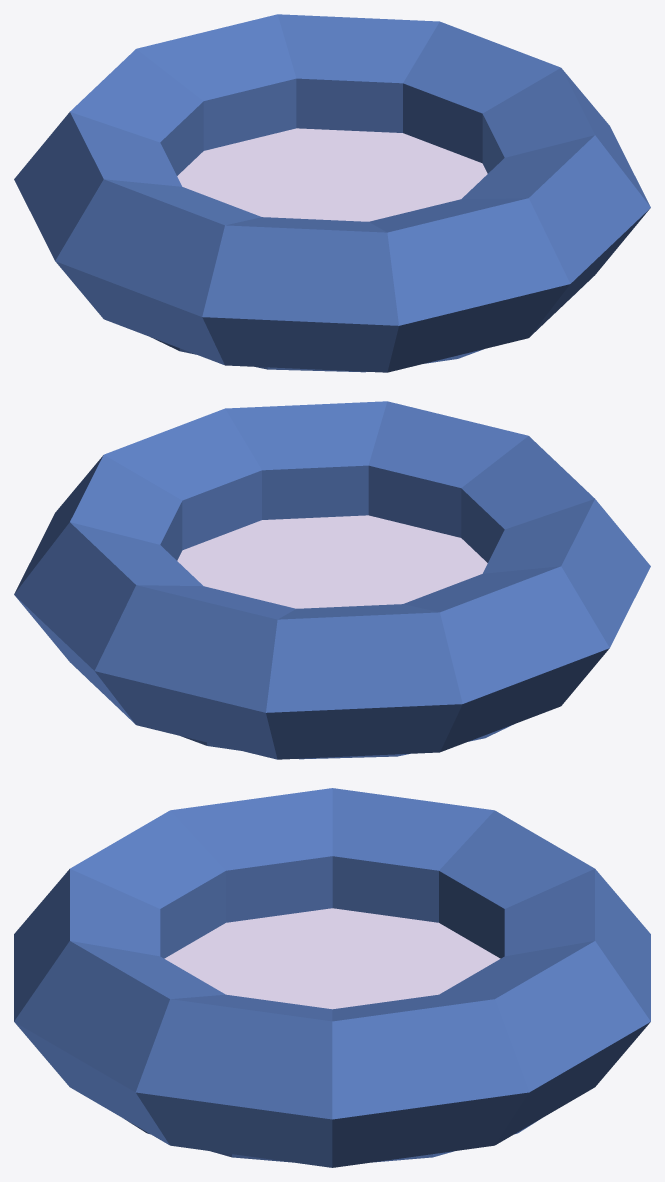
File: cat_bed.glb
3 views of the same model, one above another, from view 1: azimuth 30°, elevation 25°; view 2: azimuth 150°, elevation 25°; view 3: azimuth 270°, elevation 25° (orthographic). The views are drawn at different scales.
Parts seen in each view (by area): view 1: cat_bed; view 2: cat_bed; view 3: cat_bed.
Part boxes in pixels (bbox=[...]): cat_bed: bbox=[14, 14, 650, 372]; cat_bed: bbox=[14, 401, 650, 759]; cat_bed: bbox=[14, 788, 650, 1167].
Size of the model in its own units: 2.68 by 0.6634 by 2.55.
